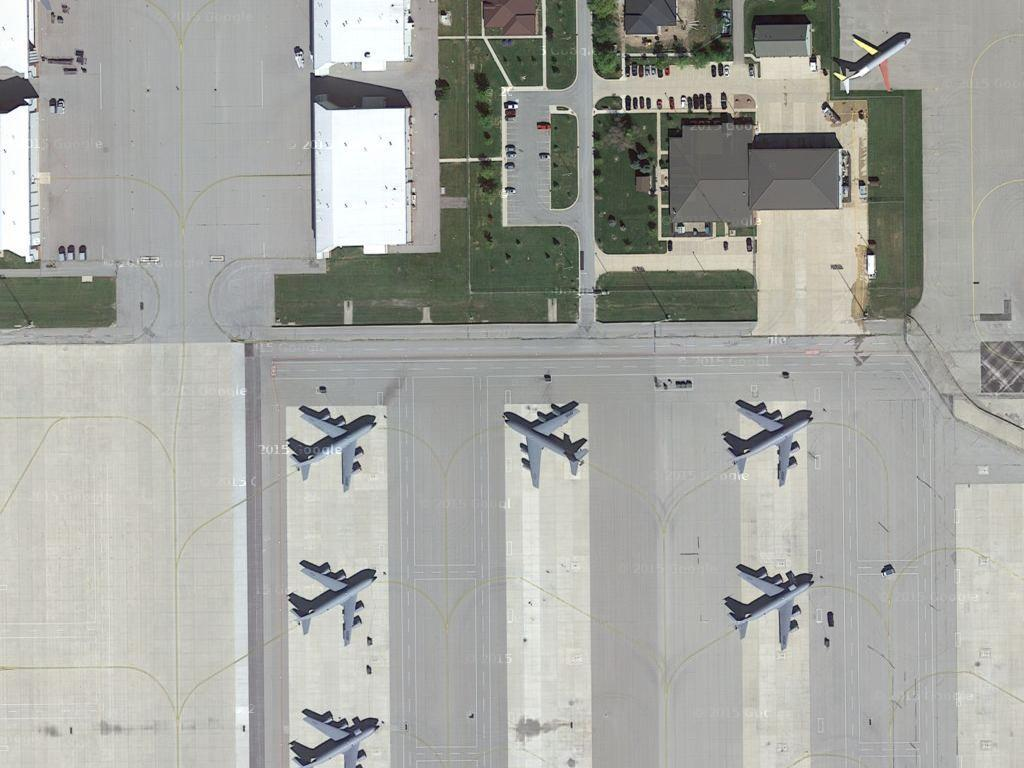KC-135: (720, 396, 817, 485), (493, 402, 593, 487), (286, 556, 379, 645), (284, 407, 384, 489), (720, 562, 813, 647), (288, 703, 382, 767)
